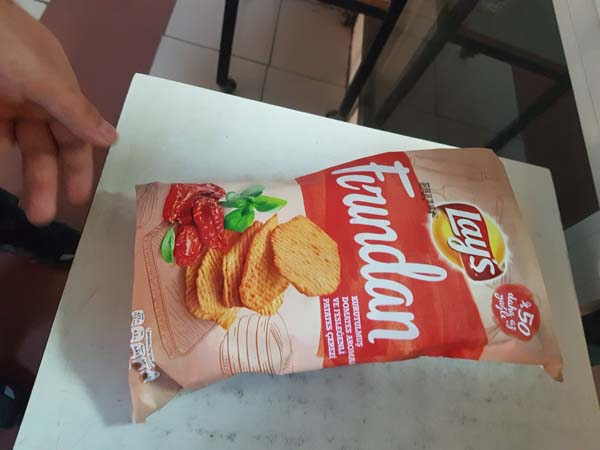laysfirindan: (134, 145, 560, 408)
